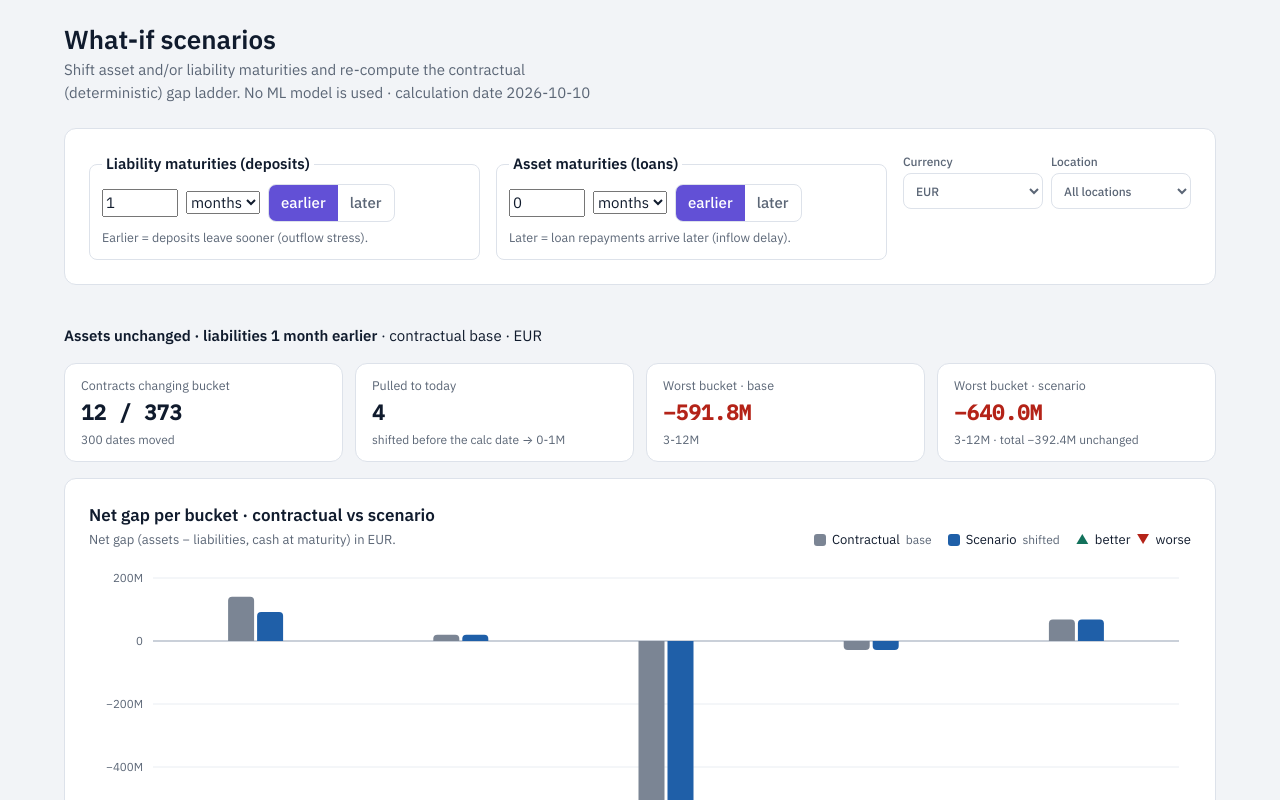
Test: hides the previous result when a new request fails
Select "USD" in the dropdown labelled "Currency" at (973, 191), box x1=903 y1=173 x2=1043 y2=209
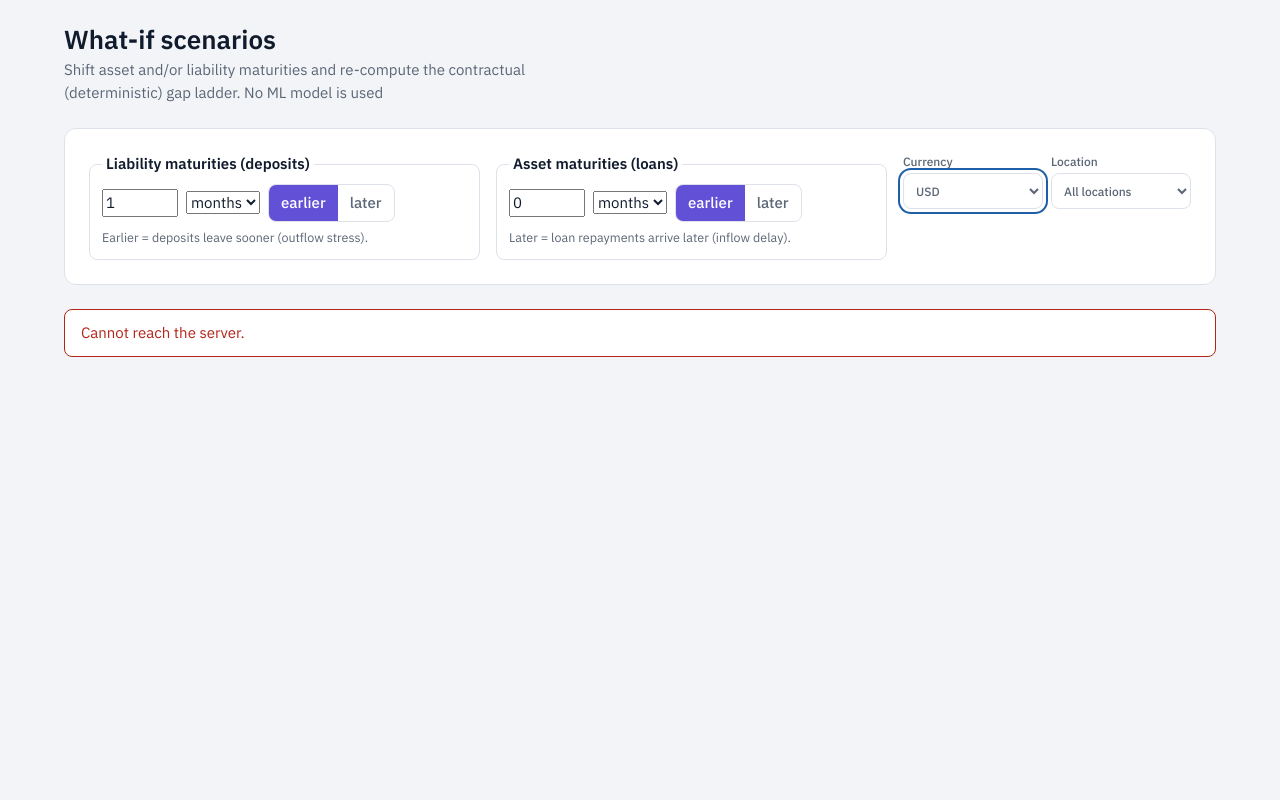
Now the message reads "Cannot reach the server.", box x1=81 y1=323 x2=244 y2=342
